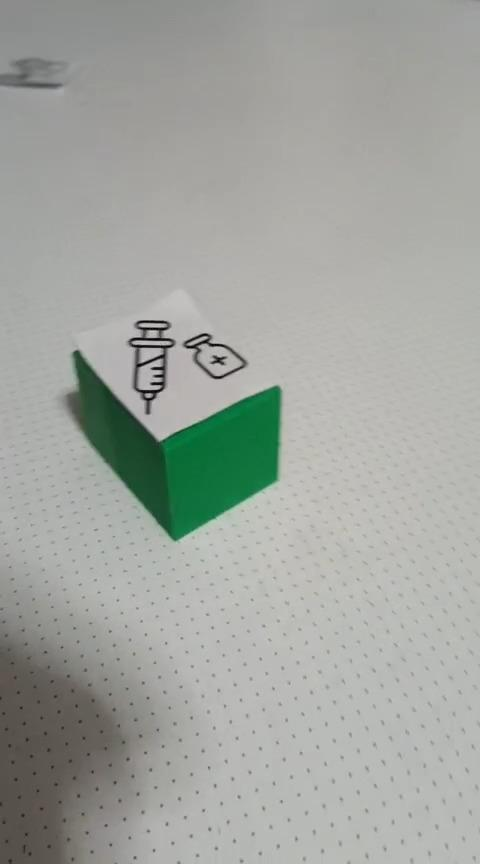antiseptic cream: (70, 285, 283, 541)
